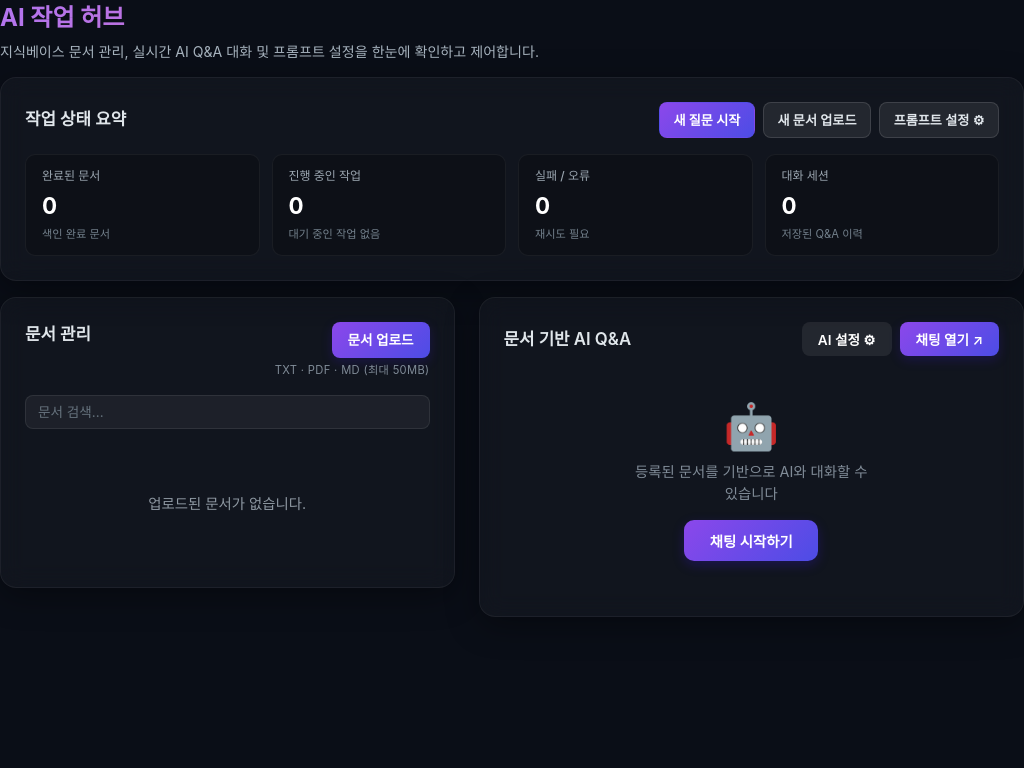
Test: AiService Component › Given 비평이 missing: ["결제 취소 정책"] 을 돌려준 경우 When 답변이 완료되면 Then 확인하지 못한 항목으로 "결제 취소 정책" 이 표시된다
Click the button "채팅 열기 ↗" at (949, 339), box [900,322,999,356]
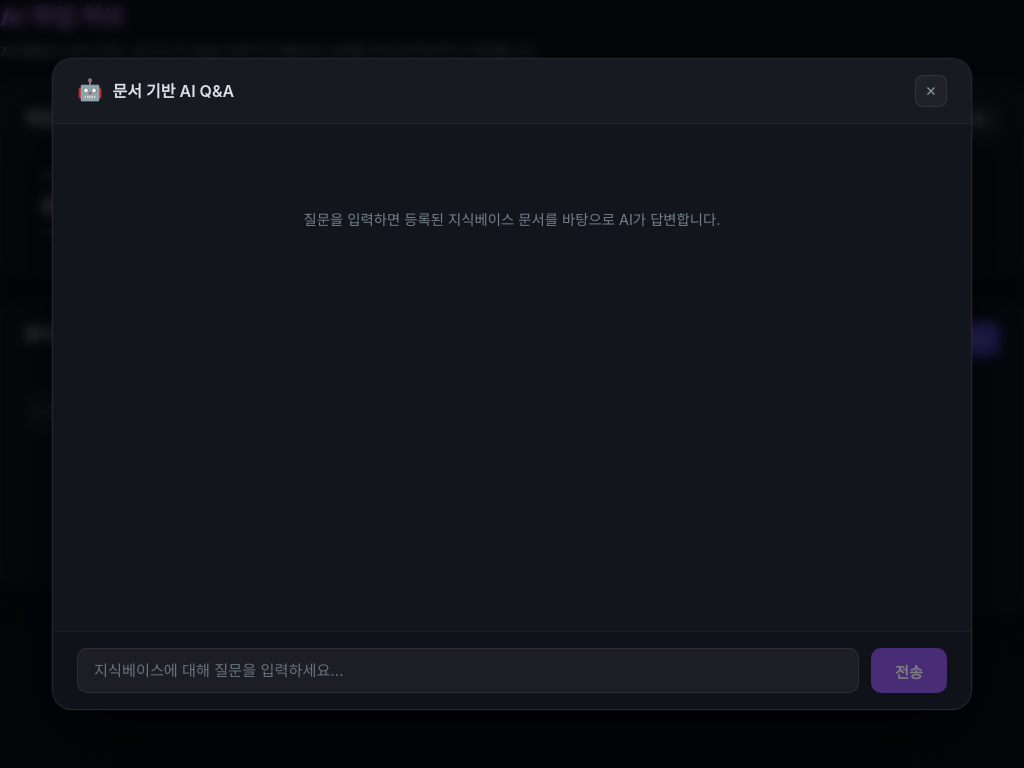
Type "취소 정책 질문" into the field with placeholder "지식베이스에 대해 질문을 입력하세요..." at (468, 671), box [77,648,859,693]
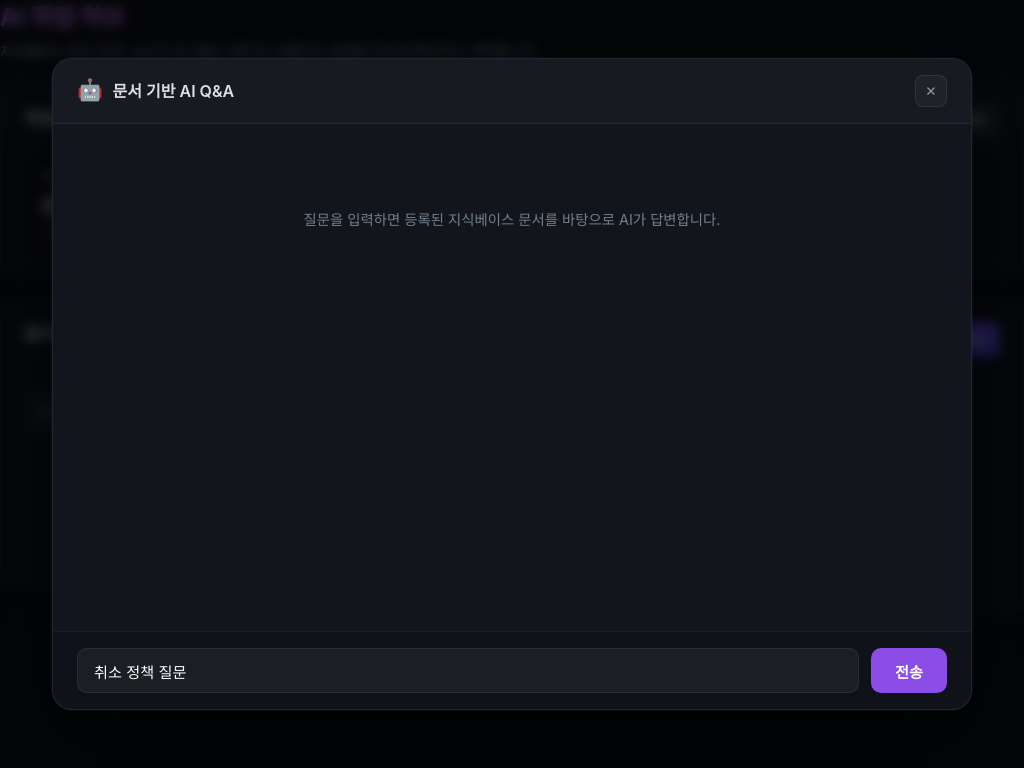
Click the button "전송" at (909, 671), box [871,648,947,693]
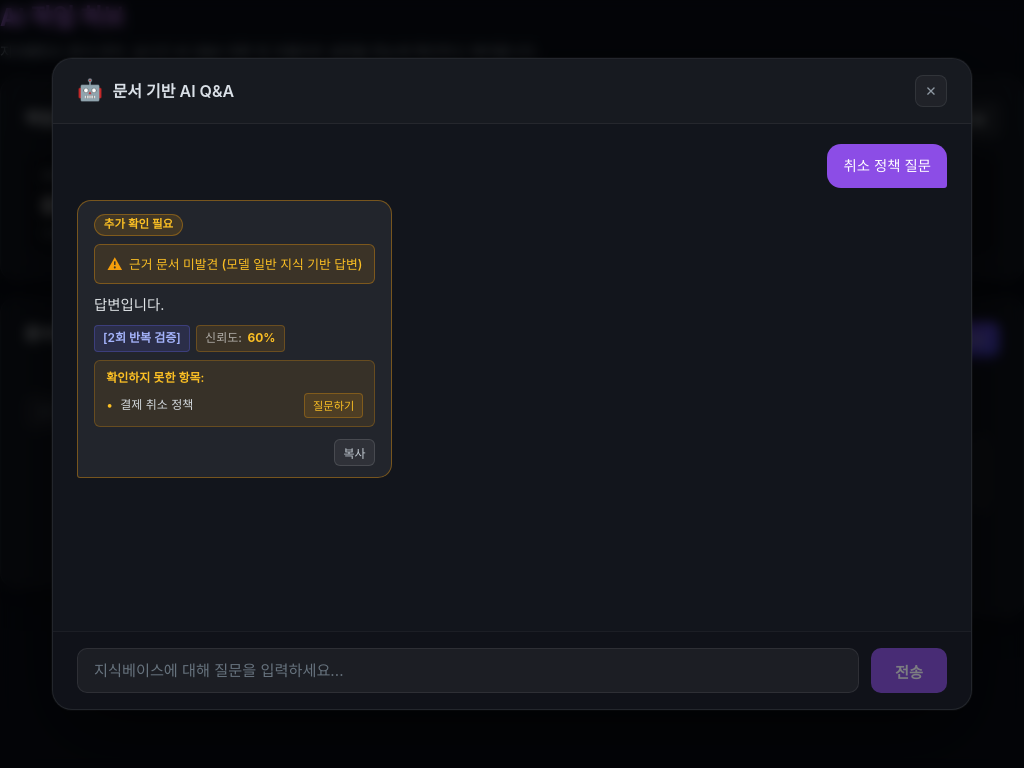
expect the element with test id "missing-info" is shown: met, box [94,360,375,426]
expect the text "결제 취소 정책" is shown: met, box [120,397,193,412]
